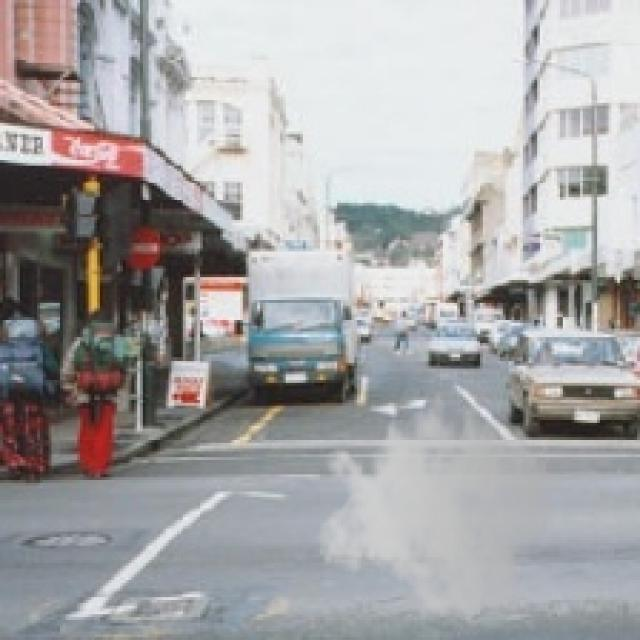smoke: (314, 377, 554, 632)
